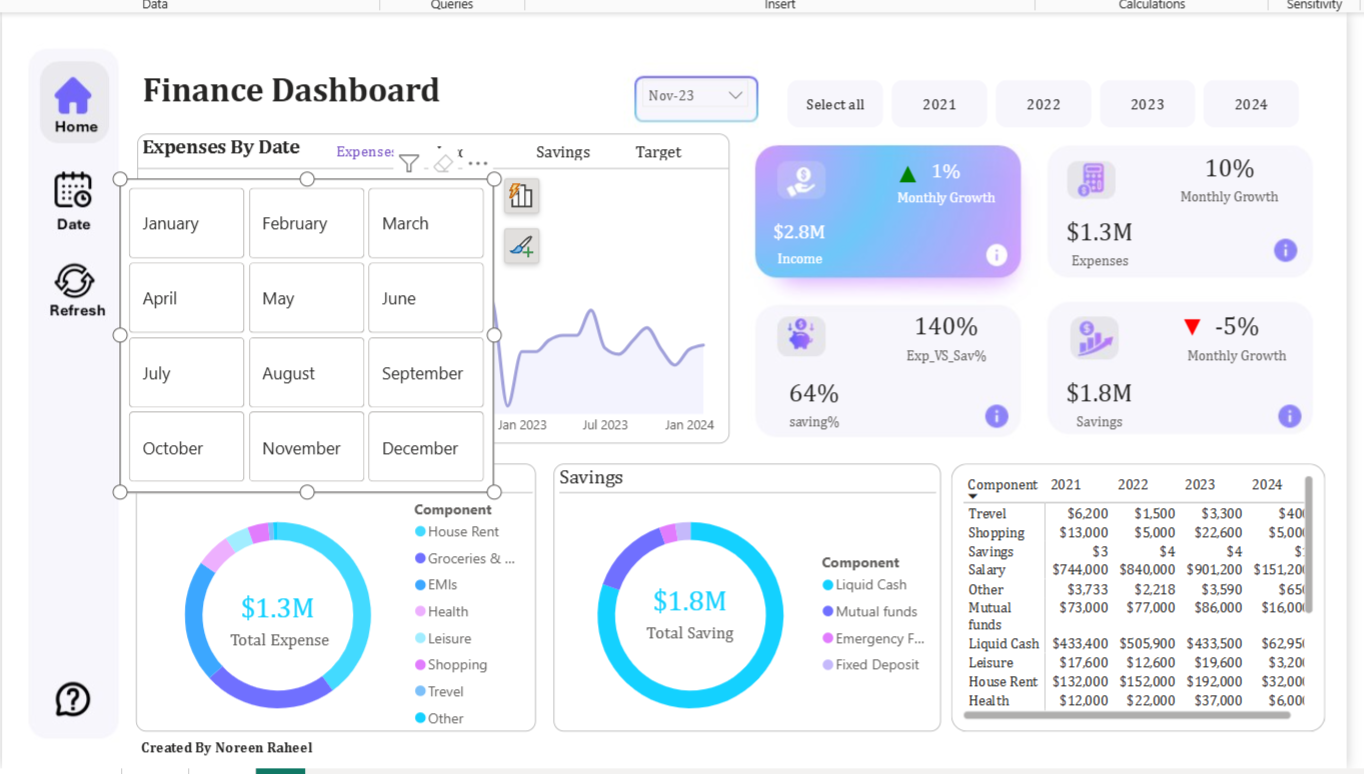

What the dashboard file says about the page in this screenshot:
{"tool":"powerbi","page":{"name":"Finance Dashboard","canvas":[1280,720],"ordinal":0},"visuals":[{"type":"card","fields":{"Values":["MeasureTable.Savings"]},"box":[994.1,334.5,101.6,71.9],"z":0},{"type":"card","fields":{"Values":["MeasureTable.Expenses"]},"box":[993.9,181.1,102.4,72.5],"z":1000},{"type":"actionButton","box":[18.2,143.8,50.6,74.9],"z":2000},{"type":"card","fields":{"Values":["MeasureTable.saving%"]},"box":[715.8,334.5,115.7,71.9],"z":3000},{"type":"advancedSlicerVisual","fields":{"Values":["DataSet.Year"]},"box":[743.4,59.9,499.3,55.1],"z":4000},{"type":"donutChart","title":"Savings ","fields":{"Category":["DataSet.Component"],"Y":["MeasureTable.Savings"]},"box":[524.5,430,368.6,255.2],"z":5000},{"type":"pivotTable","fields":{"Columns":["DataSet.Year"],"Rows":["DataSet.Type","DataSet.Component"],"Values":["MeasureTable.Total_Value"]},"box":[904.1,430,356,255.2],"z":6000},{"type":"donutChart","title":"Spending","fields":{"Category":["DataSet.Component"],"Y":["MeasureTable.Expenses"]},"box":[127.6,430,381.2,255.2],"z":7000},{"type":"lineChart","fields":{"Category":["DataSet.Date"],"Y":["MeasureTable.Line Chart Measures"]},"box":[128.2,115.7,564.2,295.4],"z":8000},{"type":"advancedSlicerVisual","fields":{"Values":["Line Selection Table.Type"]},"box":[300.1,104.7,392.3,54.7],"z":9000},{"type":"textbox","box":[128.2,50,342.3,57.8],"z":10000},{"type":"slicer","fields":{"Values":["Selected_Date.Month_yr"]},"box":[604.9,59.4,111,48.5],"z":11000},{"type":"card","fields":{"Values":["MeasureTable.Expense_MOM_Gr"]},"box":[1095.7,115.7,146.9,81.3],"z":12000},{"type":"card","fields":{"Values":["DataSet.Incom_MOM_Gr"]},"box":[831.5,123.5,136,71.9],"z":13000},{"type":"card","fields":{"Values":["MeasureTable.Saving_Monthly_Gr"]},"box":[1109.7,268.8,132.9,76.6],"z":14000},{"type":"card","fields":{"Values":["MeasureTable.Exp_VS_Sav"]},"box":[831.5,268.8,136,76.6],"z":15000},{"type":"card","fields":{"Values":["MeasureTable.Expenses"]},"box":[196.9,534,132.3,83.5],"z":16000},{"type":"card","fields":{"Values":["MeasureTable.Savings"]},"box":[595.4,522.9,119.7,94.5],"z":17000},{"type":"card","fields":{"Values":["MeasureTable.Income"]},"box":[715.8,181.3,87.5,73.5],"z":18000},{"type":"card","fields":{"Values":["MeasureTable.inc Growth Arrow"]},"box":[842.5,136,39.1,37.5],"z":19000},{"type":"card","fields":{"Values":["MeasureTable.Sav Growth Arrow"]},"box":[1109.7,281.3,46.9,39.1],"z":20000},{"type":"actionButton","box":[29.9,234.7,77.2,66.2],"z":22000},{"type":"actionButton","box":[68.9,143.8,38.5,74.9],"z":23000},{"type":"textbox","box":[127.6,685.2,272.5,34.7],"z":24000}]}

Visuals, with their boxes on the page's 1280x720 design canvas (x1, y1, x2, y2). These are canvas units, not pixel positions in the 1364x774 screenshot, which may show the page scaled, cropped or inside an application window:
card - MeasureTable.Savings: [x1=994, y1=334, x2=1096, y2=406]
card - MeasureTable.Expenses: [x1=994, y1=181, x2=1096, y2=254]
actionButton: [x1=18, y1=144, x2=69, y2=219]
card - MeasureTable.saving%: [x1=716, y1=334, x2=832, y2=406]
advancedSlicerVisual - DataSet.Year: [x1=743, y1=60, x2=1243, y2=115]
"Savings " donutChart: [x1=524, y1=430, x2=893, y2=685]
pivotTable - DataSet.Year x DataSet.Type: [x1=904, y1=430, x2=1260, y2=685]
"Spending" donutChart: [x1=128, y1=430, x2=509, y2=685]
lineChart - DataSet.Date x MeasureTable.Line Chart Measures: [x1=128, y1=116, x2=692, y2=411]
advancedSlicerVisual - Line Selection Table.Type: [x1=300, y1=105, x2=692, y2=159]
textbox: [x1=128, y1=50, x2=470, y2=108]
slicer - Selected_Date.Month_yr: [x1=605, y1=59, x2=716, y2=108]
card - MeasureTable.Expense_MOM_Gr: [x1=1096, y1=116, x2=1243, y2=197]
card - DataSet.Incom_MOM_Gr: [x1=832, y1=124, x2=968, y2=195]
card - MeasureTable.Saving_Monthly_Gr: [x1=1110, y1=269, x2=1243, y2=345]
card - MeasureTable.Exp_VS_Sav: [x1=832, y1=269, x2=968, y2=345]
card - MeasureTable.Expenses: [x1=197, y1=534, x2=329, y2=618]
card - MeasureTable.Savings: [x1=595, y1=523, x2=715, y2=617]
card - MeasureTable.Income: [x1=716, y1=181, x2=803, y2=255]
card - MeasureTable.inc Growth Arrow: [x1=842, y1=136, x2=882, y2=174]
card - MeasureTable.Sav Growth Arrow: [x1=1110, y1=281, x2=1157, y2=320]
actionButton: [x1=30, y1=235, x2=107, y2=301]
actionButton: [x1=69, y1=144, x2=107, y2=219]
textbox: [x1=128, y1=685, x2=400, y2=720]
